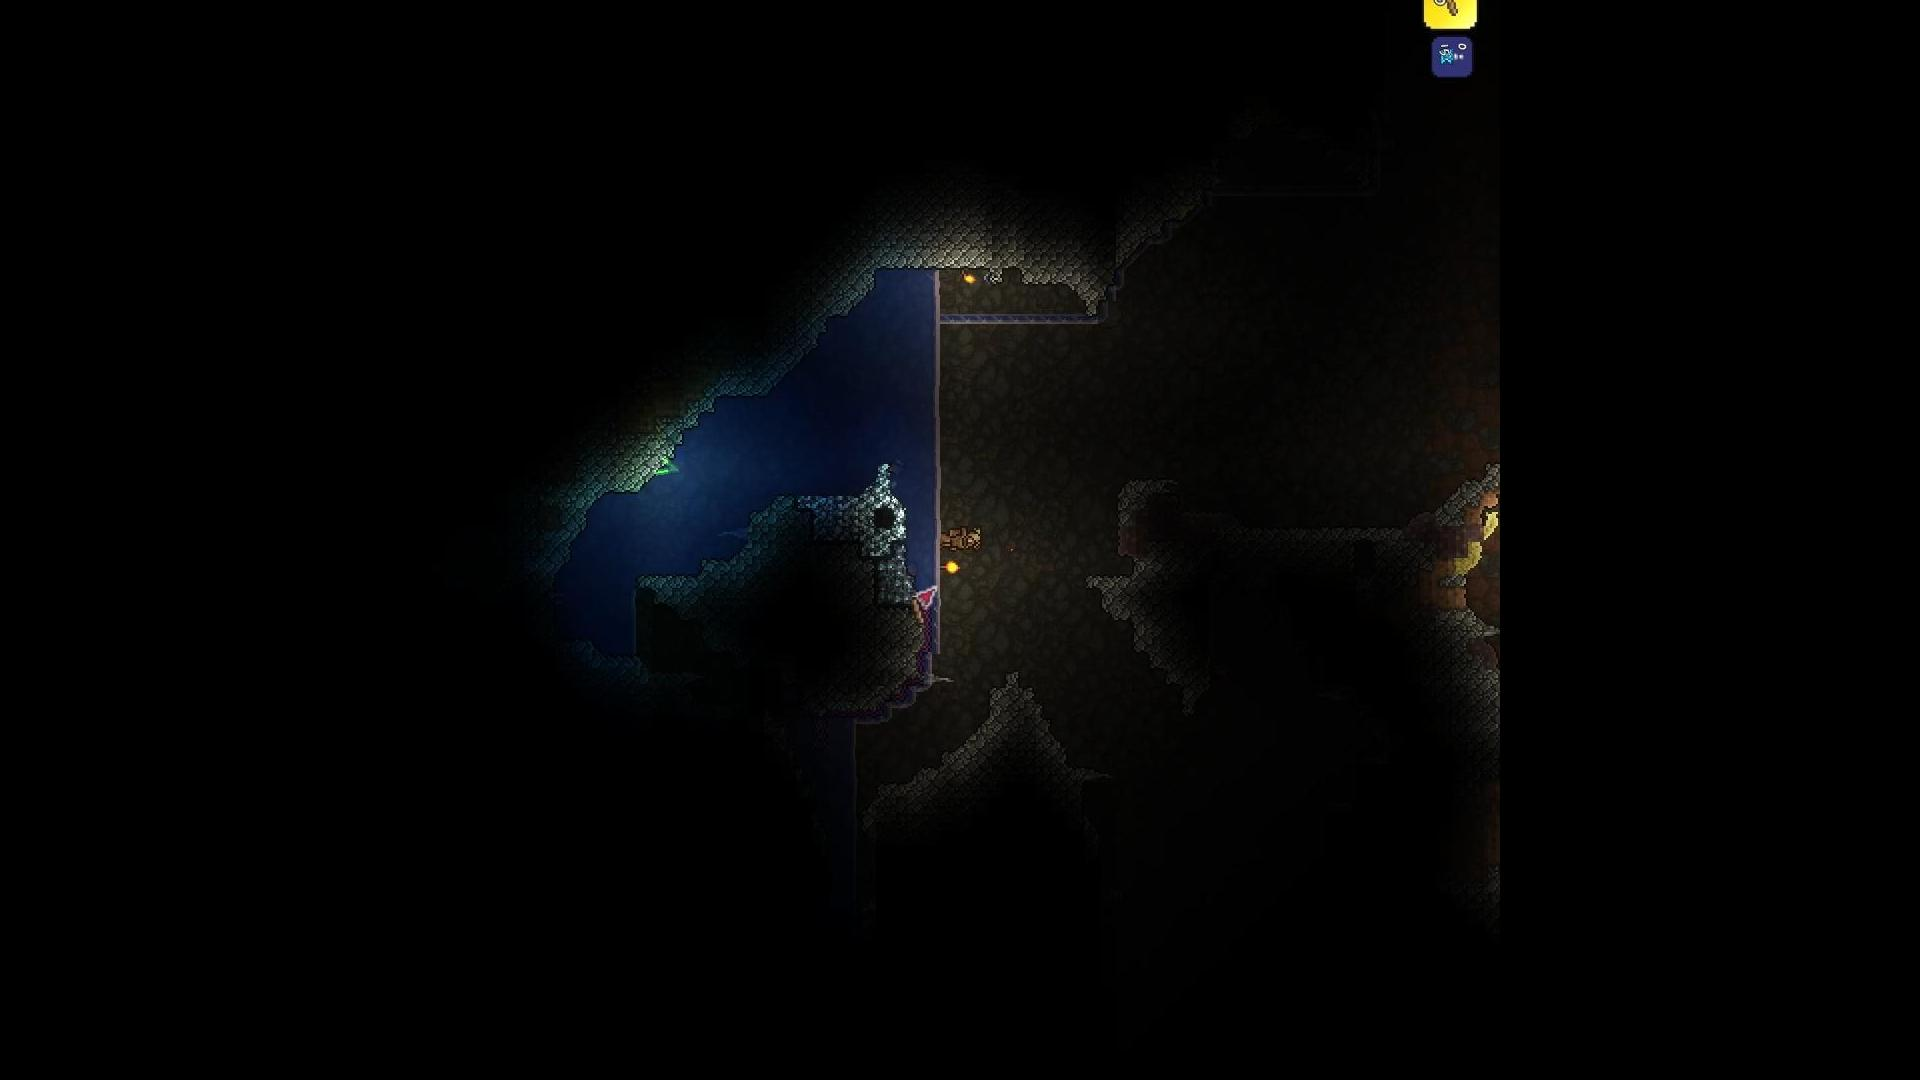glowstick: (645, 454, 691, 483)
liquid: (922, 407, 945, 429), (920, 446, 945, 465), (922, 372, 945, 392), (920, 483, 945, 501), (920, 465, 947, 483), (924, 298, 944, 320), (920, 429, 945, 446), (922, 501, 945, 518), (923, 338, 943, 356), (922, 392, 944, 407), (922, 356, 943, 372), (924, 322, 943, 338)
platform: (1444, 0, 1458, 18)
